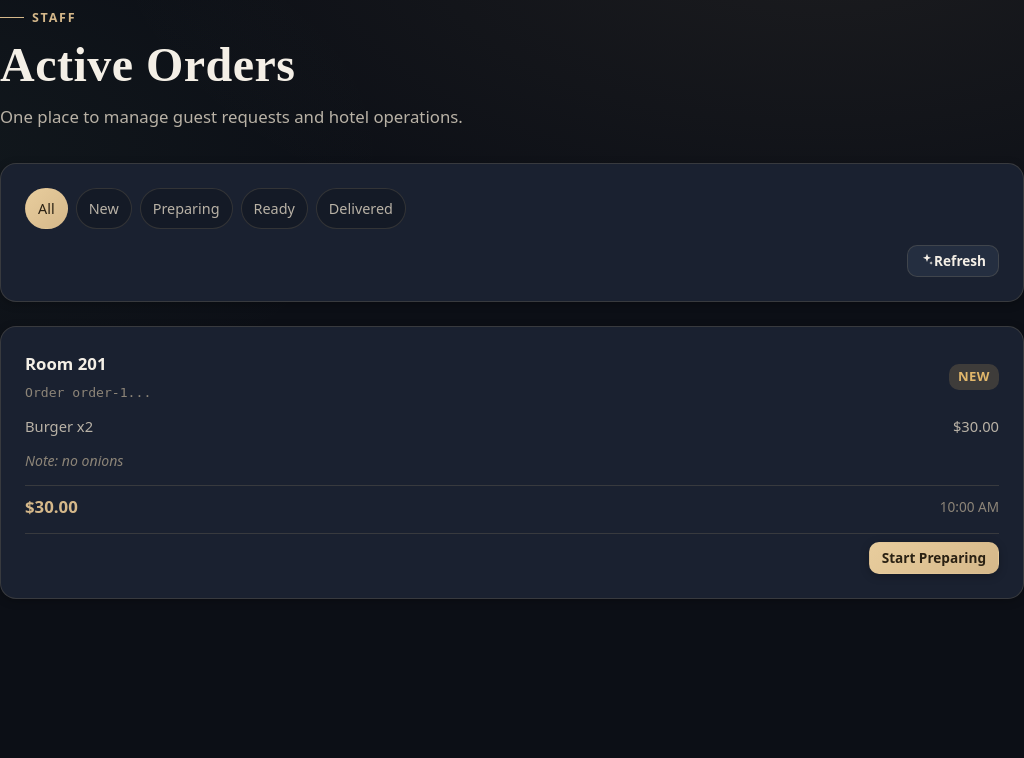
Test: StaffOrdersView › shows error when status update fails
Expected: the text "Burger x2" is shown, x1=25 y1=415 x2=93 y2=438
Click the button "Start Preparing" at (934, 558), box x1=869 y1=542 x2=999 y2=574
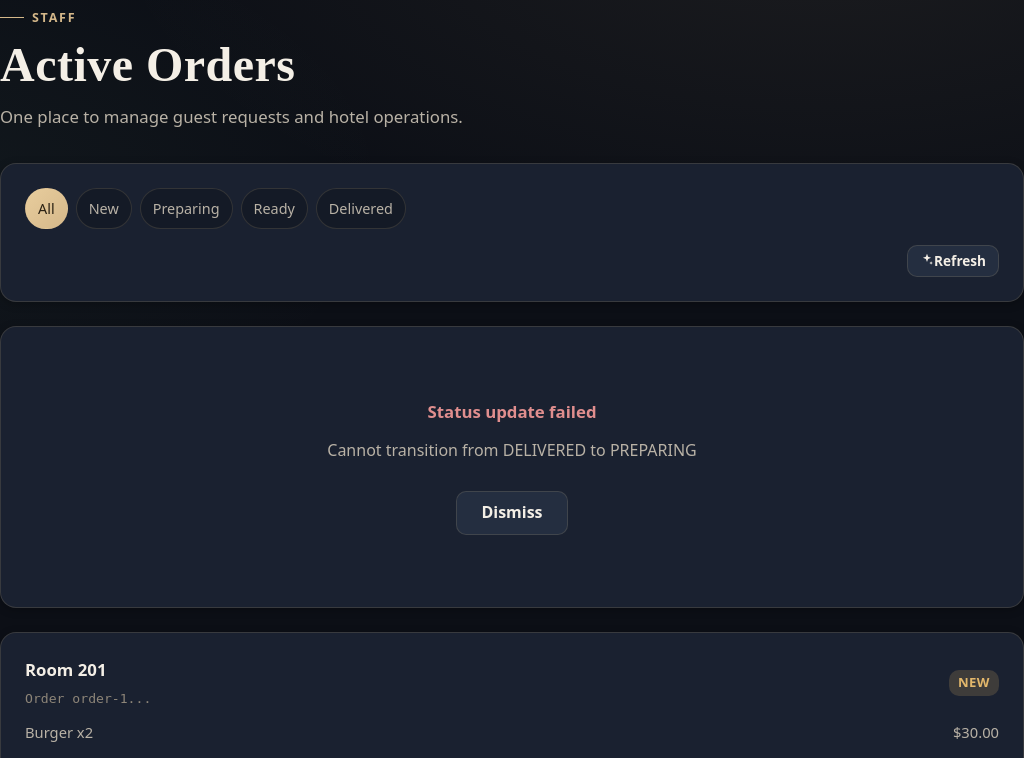
Expected: the heading "Status update failed" is shown, x1=428 y1=399 x2=597 y2=426
